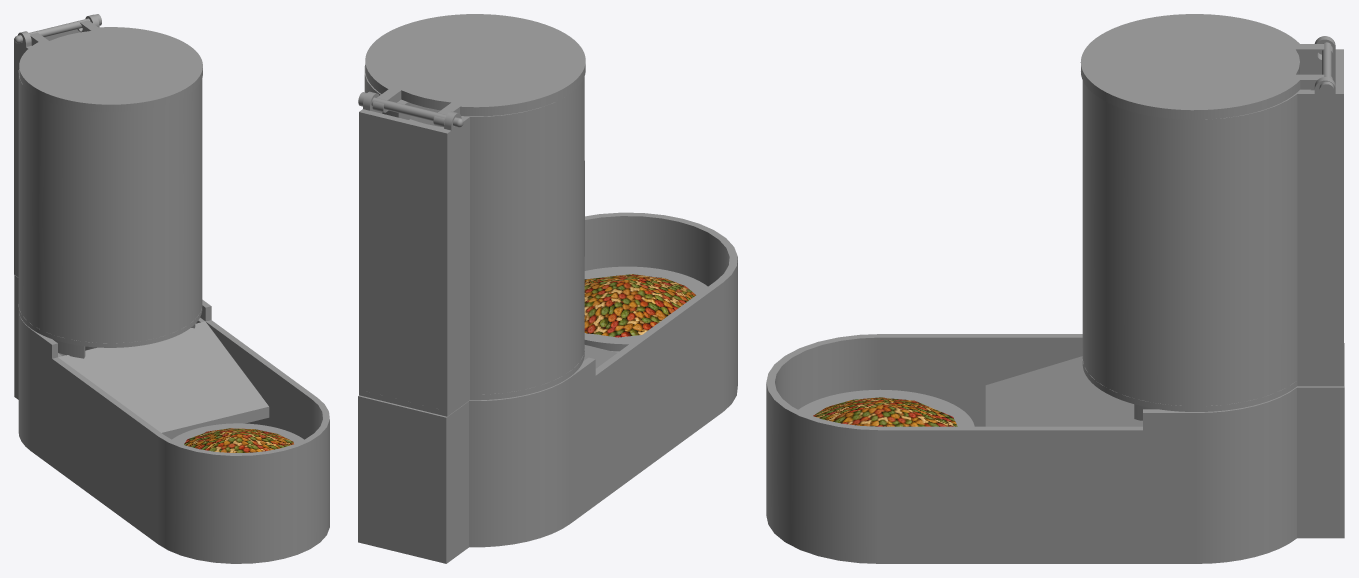
The model's file is automatic_feeder.glb.
3 renders of one model, left to right at view 1: azimuth 30°, elevation 25°; view 2: azimuth 150°, elevation 25°; view 3: azimuth 270°, elevation 25°, orthographic. The views are drawn at different scales.
Parts seen in each view (by area): view 1: Body1, Plane; view 2: Body1, Plane; view 3: Body1, Plane.
Boxes of the visible parts, x1=… form: Body1: x1=14, y1=14, x2=329, y2=563; Plane: x1=184, y1=428, x2=293, y2=452; Body1: x1=358, y1=14, x2=737, y2=563; Plane: x1=584, y1=274, x2=695, y2=337; Body1: x1=766, y1=14, x2=1344, y2=563; Plane: x1=813, y1=397, x2=957, y2=426.
Bounding box in the file's own units: 0.3314 × 0.7348 × 0.8414.
Materials: 2 (1 with a texture image).
